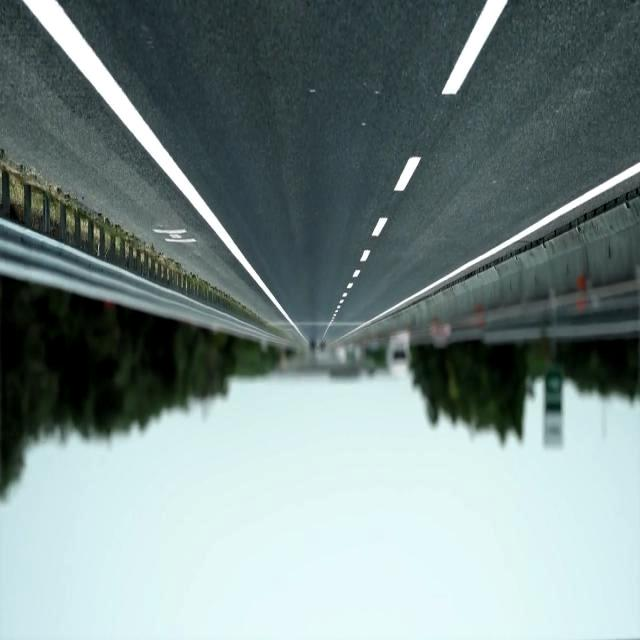lane: (25, 1, 302, 336), (338, 162, 640, 339), (443, 1, 509, 95), (396, 156, 421, 191), (372, 218, 388, 236), (361, 249, 370, 261)
road: (59, 1, 640, 341), (1, 1, 284, 324)
